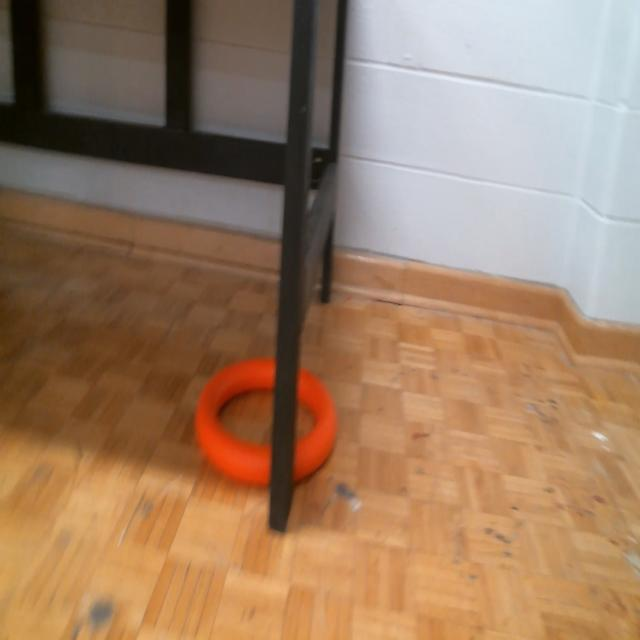note: (194, 354, 338, 484)
